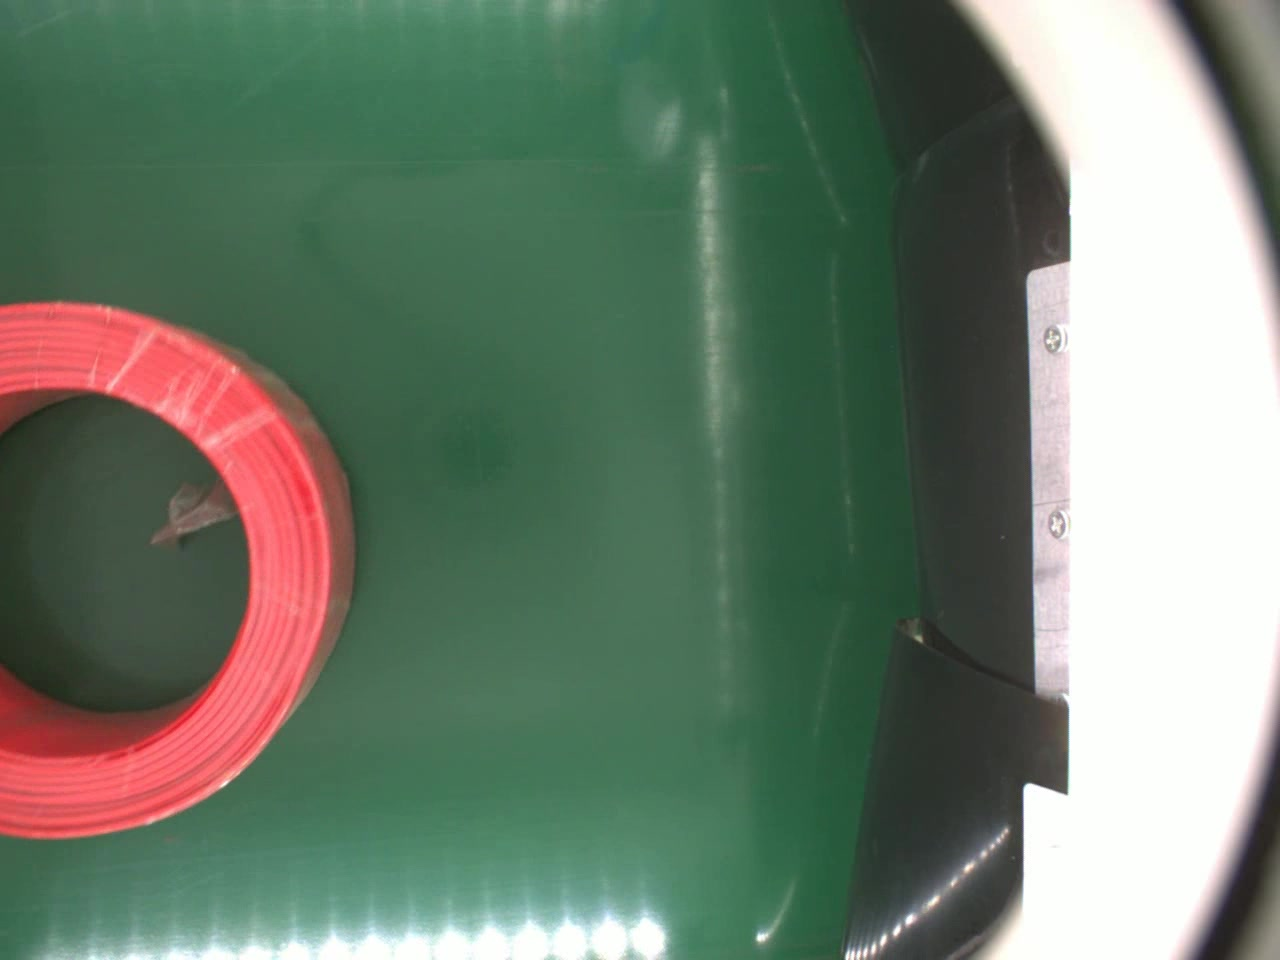red: (0, 299, 367, 843)
